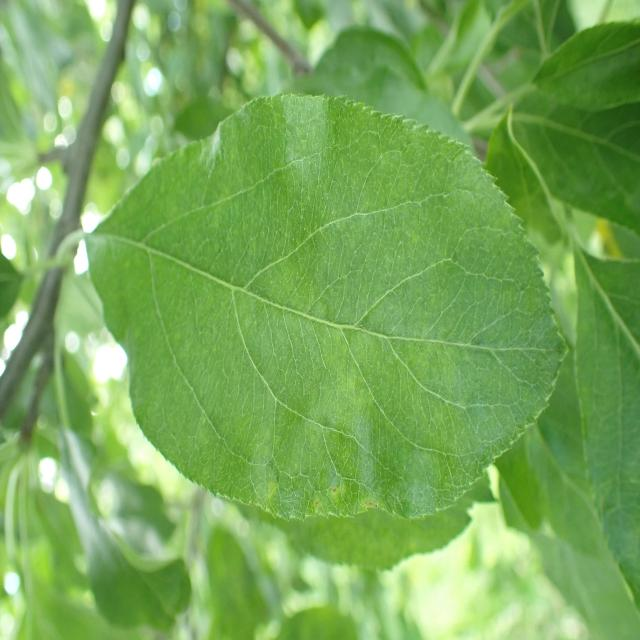scab: (125, 175, 546, 530)
